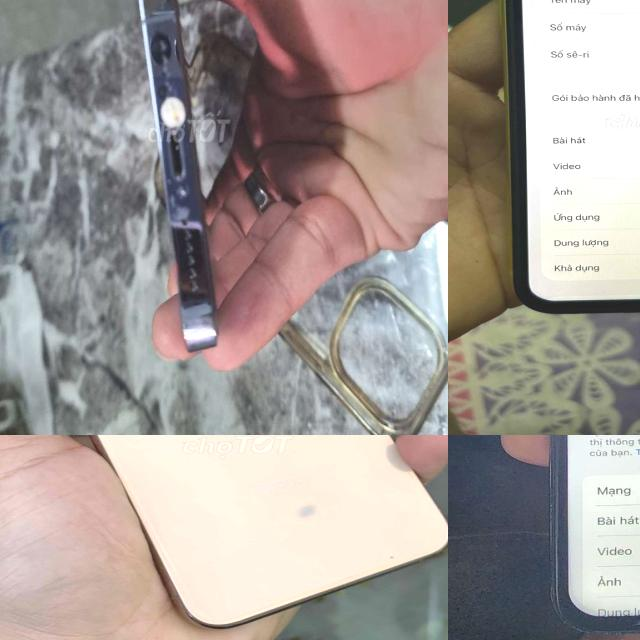gen_11: (481, 0, 640, 321)
gen_12_13: (125, 0, 227, 361)
gen_x_xs: (0, 435, 448, 640), (525, 435, 640, 639)
